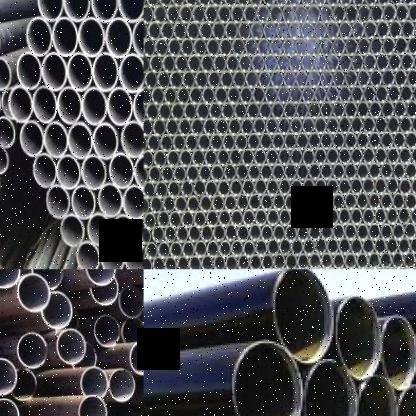pipe: (269, 270, 335, 366), (228, 339, 306, 416), (333, 293, 383, 383), (302, 357, 360, 416), (378, 312, 416, 390), (352, 372, 399, 416), (17, 274, 51, 312), (41, 290, 73, 328), (105, 17, 132, 59), (17, 332, 48, 368), (78, 18, 105, 57), (57, 329, 86, 365), (52, 16, 78, 56), (66, 52, 92, 92), (92, 52, 118, 92), (118, 54, 144, 93), (107, 87, 133, 126), (26, 18, 52, 56), (82, 87, 107, 126), (16, 52, 42, 89), (32, 86, 57, 124), (42, 54, 67, 91), (108, 368, 135, 402), (57, 86, 81, 124), (93, 123, 118, 159), (109, 153, 134, 189), (20, 121, 44, 158), (120, 121, 144, 158), (81, 156, 107, 190), (97, 184, 123, 218), (80, 367, 108, 398), (9, 87, 33, 123), (68, 123, 92, 159), (90, 277, 119, 306), (94, 315, 120, 347), (12, 369, 38, 401), (44, 122, 67, 158), (71, 186, 96, 219), (57, 156, 80, 191), (86, 214, 111, 246), (119, 286, 144, 318), (46, 186, 70, 219), (33, 154, 56, 188), (72, 339, 98, 369), (395, 380, 416, 416), (112, 216, 135, 248), (61, 215, 84, 246), (124, 184, 144, 218), (78, 395, 108, 416), (76, 242, 99, 269), (63, 0, 90, 23), (32, 270, 63, 290), (100, 244, 124, 269), (91, 0, 118, 22), (0, 359, 16, 395), (121, 317, 144, 342), (118, 0, 144, 22), (128, 341, 144, 376), (37, 0, 63, 21), (86, 269, 116, 286), (124, 244, 144, 269), (132, 18, 144, 58), (132, 87, 144, 126), (0, 117, 15, 148), (0, 270, 20, 290), (0, 57, 11, 91), (134, 155, 144, 189), (0, 399, 20, 416), (165, 116, 179, 137), (166, 3, 180, 24), (179, 3, 193, 24), (218, 3, 232, 24), (153, 4, 167, 25), (326, 20, 340, 41), (301, 20, 315, 41), (225, 20, 239, 41), (173, 20, 187, 41), (186, 20, 200, 41), (199, 20, 213, 41), (147, 20, 161, 41), (135, 216, 144, 248), (180, 179, 194, 199), (370, 3, 384, 23), (332, 4, 346, 24), (206, 38, 220, 58), (193, 38, 207, 58), (388, 52, 402, 72), (363, 53, 377, 73), (369, 68, 383, 88), (220, 70, 234, 90), (194, 70, 208, 90), (207, 70, 221, 90), (350, 84, 364, 104), (227, 86, 241, 106), (221, 102, 235, 122), (158, 102, 172, 122), (332, 161, 345, 182), (223, 162, 236, 183), (257, 3, 270, 24), (295, 3, 308, 24), (231, 3, 244, 24), (364, 19, 377, 40), (339, 20, 352, 41), (251, 20, 264, 41), (314, 20, 327, 41), (238, 20, 251, 41), (212, 20, 225, 41), (264, 20, 277, 41), (161, 20, 174, 41), (370, 36, 383, 57), (357, 36, 370, 57), (345, 36, 358, 57), (296, 100, 309, 121), (271, 100, 284, 121), (160, 133, 174, 152), (200, 224, 214, 243), (301, 53, 315, 72), (216, 116, 229, 136), (191, 116, 204, 136), (153, 117, 166, 137), (210, 132, 223, 152), (222, 132, 235, 152), (198, 132, 211, 152), (185, 132, 198, 152), (387, 146, 400, 166), (399, 146, 412, 166), (338, 146, 351, 166), (192, 148, 205, 168), (167, 148, 180, 168), (356, 161, 369, 181), (260, 162, 273, 182), (148, 164, 161, 184), (290, 178, 303, 198), (230, 178, 243, 198), (218, 178, 231, 198), (193, 178, 206, 198), (155, 180, 168, 200), (396, 2, 409, 22), (383, 3, 396, 23), (358, 4, 371, 24), (320, 4, 333, 24), (345, 4, 358, 24), (205, 4, 218, 24), (401, 19, 414, 39), (389, 20, 402, 40), (376, 20, 389, 40), (352, 20, 365, 40), (382, 36, 395, 56), (307, 37, 320, 57), (295, 37, 308, 57), (232, 37, 245, 57), (270, 37, 283, 57), (245, 38, 258, 58), (219, 38, 232, 58), (155, 38, 168, 58), (181, 38, 194, 58), (168, 38, 181, 58), (351, 53, 364, 73), (339, 53, 352, 73), (289, 53, 302, 73), (277, 53, 290, 73), (239, 54, 252, 74), (201, 54, 214, 74), (188, 54, 201, 74), (150, 54, 163, 74), (175, 54, 188, 74), (394, 68, 407, 88), (332, 68, 345, 88), (283, 68, 296, 88), (157, 70, 170, 90), (170, 70, 183, 90), (182, 70, 195, 90), (400, 84, 413, 104), (363, 84, 376, 104), (375, 84, 388, 104), (339, 84, 352, 104), (314, 84, 327, 104), (289, 85, 302, 105), (265, 85, 278, 105), (202, 86, 215, 106), (214, 86, 227, 106), (164, 86, 177, 106), (393, 100, 406, 120), (369, 100, 382, 120), (234, 101, 247, 121), (184, 102, 197, 122), (146, 102, 159, 122), (345, 130, 357, 151), (345, 161, 357, 182), (321, 161, 333, 182), (285, 161, 297, 182), (282, 3, 294, 24), (270, 3, 282, 24), (277, 20, 289, 41), (289, 20, 301, 41), (333, 36, 345, 57), (308, 68, 320, 89), (321, 68, 333, 89), (296, 68, 308, 89), (284, 100, 296, 121), (332, 131, 345, 150), (356, 131, 369, 150), (296, 132, 309, 151), (235, 132, 248, 151), (247, 132, 260, 151), (374, 146, 387, 165), (362, 146, 375, 165), (314, 147, 327, 166), (254, 148, 267, 167), (217, 148, 230, 167), (154, 149, 167, 168), (308, 162, 321, 181), (296, 162, 309, 181), (236, 162, 249, 181), (186, 164, 199, 183), (161, 165, 174, 184), (266, 178, 279, 197), (242, 178, 255, 197), (224, 193, 237, 212), (255, 208, 268, 227), (152, 225, 165, 244), (255, 238, 268, 257), (219, 239, 232, 258), (194, 239, 207, 258), (170, 240, 183, 259), (314, 53, 327, 72), (356, 100, 369, 119), (332, 100, 345, 119), (399, 115, 412, 134), (253, 116, 266, 135), (0, 144, 8, 174), (260, 132, 272, 152), (351, 146, 363, 166), (303, 147, 315, 167), (381, 161, 393, 181), (404, 160, 416, 180), (393, 161, 405, 181), (279, 178, 291, 198), (285, 192, 297, 212), (237, 192, 249, 212), (187, 194, 199, 214), (163, 194, 175, 214), (175, 194, 187, 214), (243, 238, 255, 258), (231, 238, 243, 258), (146, 240, 158, 260), (308, 4, 320, 24), (245, 4, 257, 24), (193, 4, 205, 24), (395, 36, 407, 56), (283, 37, 295, 57), (258, 37, 270, 57), (321, 37, 333, 57), (401, 52, 413, 72), (376, 52, 388, 72), (327, 53, 339, 73), (265, 54, 277, 74), (227, 54, 239, 74), (252, 54, 264, 74), (214, 54, 226, 74), (163, 54, 175, 74), (382, 68, 394, 88), (345, 68, 357, 88), (357, 68, 369, 88), (233, 69, 245, 89), (246, 69, 258, 89), (259, 69, 271, 89), (145, 70, 157, 90), (278, 85, 290, 105), (253, 85, 265, 105), (240, 85, 252, 105), (190, 86, 202, 106), (177, 86, 189, 106), (152, 86, 164, 106), (321, 100, 333, 120), (247, 101, 259, 121), (197, 102, 209, 122), (210, 102, 222, 122), (172, 102, 184, 122), (388, 114, 400, 134), (284, 132, 297, 150), (147, 134, 160, 152), (290, 148, 303, 166), (278, 148, 291, 166), (211, 164, 224, 182), (374, 178, 387, 196), (362, 178, 375, 196), (339, 178, 352, 196), (399, 178, 412, 196), (308, 192, 321, 210), (344, 192, 357, 210), (380, 192, 393, 210), (272, 193, 285, 211), (296, 194, 309, 212), (150, 196, 163, 214), (338, 208, 351, 226), (374, 208, 387, 226), (303, 208, 316, 226), (230, 208, 243, 226), (272, 224, 285, 242), (237, 224, 250, 242), (188, 225, 201, 243), (279, 238, 292, 256), (350, 238, 363, 256), (182, 240, 195, 258), (403, 252, 416, 270), (320, 252, 333, 270), (308, 252, 321, 270), (388, 85, 401, 103), (302, 86, 315, 104), (259, 102, 272, 120), (326, 116, 339, 134), (338, 116, 351, 134), (314, 116, 327, 134), (229, 117, 241, 136), (204, 117, 216, 136), (179, 117, 191, 136), (393, 131, 405, 150), (381, 131, 393, 150), (272, 132, 284, 151), (173, 133, 185, 152), (230, 148, 242, 167), (205, 148, 217, 167), (180, 149, 192, 168), (272, 162, 284, 181), (248, 162, 260, 181), (174, 164, 186, 183), (255, 178, 267, 197), (205, 179, 217, 198), (261, 192, 273, 211), (243, 208, 255, 227), (219, 208, 231, 227), (213, 224, 225, 243), (164, 225, 176, 244), (207, 239, 219, 258), (158, 240, 170, 259), (382, 100, 394, 119), (345, 100, 357, 119), (308, 100, 320, 119), (375, 115, 387, 134), (278, 116, 290, 135), (290, 116, 302, 135), (266, 116, 278, 135), (241, 116, 253, 135), (369, 132, 382, 149), (241, 149, 254, 166), (278, 209, 291, 226), (356, 224, 369, 241), (339, 238, 352, 255), (362, 238, 375, 255), (374, 238, 387, 255), (267, 239, 280, 256), (177, 224, 188, 244), (144, 37, 155, 57), (321, 132, 333, 150), (308, 132, 320, 150), (327, 148, 339, 166), (266, 148, 278, 166), (369, 162, 381, 180), (199, 164, 211, 182), (387, 177, 399, 195), (351, 177, 363, 195), (327, 178, 339, 196), (303, 178, 315, 196), (315, 178, 327, 196), (168, 180, 180, 198), (356, 192, 368, 210), (369, 192, 381, 210), (393, 192, 405, 210), (333, 193, 345, 211), (249, 193, 261, 211), (321, 193, 333, 211), (404, 193, 416, 211), (212, 194, 224, 212), (351, 207, 363, 225), (399, 208, 411, 226), (315, 208, 327, 226), (386, 208, 398, 226), (327, 208, 339, 226), (363, 208, 375, 226), (206, 209, 218, 227), (194, 210, 206, 228), (182, 210, 194, 228), (157, 210, 169, 228), (170, 210, 182, 228), (249, 224, 261, 242), (297, 224, 309, 242), (226, 224, 238, 242), (291, 238, 303, 256), (303, 238, 315, 256), (368, 252, 380, 270), (344, 252, 356, 270), (356, 252, 368, 270), (297, 252, 309, 270), (271, 70, 283, 88), (327, 86, 339, 104), (351, 116, 363, 134), (363, 116, 375, 134), (303, 116, 315, 134), (144, 3, 154, 24), (405, 130, 416, 149), (144, 180, 155, 199), (290, 210, 303, 226), (392, 224, 405, 240), (248, 254, 261, 270), (188, 254, 201, 270), (176, 254, 189, 270), (200, 196, 212, 213), (267, 209, 279, 226), (404, 223, 416, 240), (345, 224, 357, 241), (381, 224, 393, 241), (309, 224, 321, 241), (261, 225, 273, 242), (285, 225, 297, 242), (315, 238, 327, 255), (380, 252, 392, 269), (392, 252, 404, 269), (406, 68, 416, 88), (144, 212, 155, 230), (333, 252, 344, 270), (405, 100, 416, 118), (369, 224, 381, 240), (321, 224, 333, 240), (333, 224, 345, 240), (386, 238, 398, 254), (327, 238, 339, 254), (398, 238, 410, 254), (285, 254, 297, 270), (261, 254, 273, 270), (225, 254, 237, 270), (213, 254, 225, 270), (201, 254, 213, 270), (144, 149, 154, 168), (144, 116, 153, 137), (407, 2, 416, 22), (407, 36, 416, 56), (274, 254, 285, 270), (238, 254, 249, 270), (152, 256, 165, 269), (164, 256, 176, 269), (144, 86, 151, 106), (409, 207, 416, 225), (144, 226, 151, 244), (410, 144, 416, 164), (410, 114, 416, 134), (409, 237, 416, 254), (143, 165, 149, 184), (144, 54, 150, 73), (410, 177, 416, 195), (144, 196, 150, 214), (222, 0, 236, 7), (184, 0, 198, 7), (145, 0, 159, 7), (144, 257, 152, 269), (364, 0, 377, 7), (275, 0, 288, 7), (263, 0, 276, 7), (300, 0, 313, 7), (326, 0, 339, 7), (351, 0, 364, 7), (313, 0, 326, 7), (236, 0, 249, 7), (210, 0, 223, 7), (197, 0, 210, 7), (158, 0, 171, 7), (388, 0, 402, 6), (288, 0, 300, 7), (339, 0, 351, 7), (412, 84, 416, 104), (249, 0, 262, 6), (171, 0, 184, 6), (377, 0, 389, 6), (401, 0, 414, 5), (144, 20, 147, 41), (413, 19, 416, 39), (413, 52, 416, 72), (144, 133, 146, 152)
